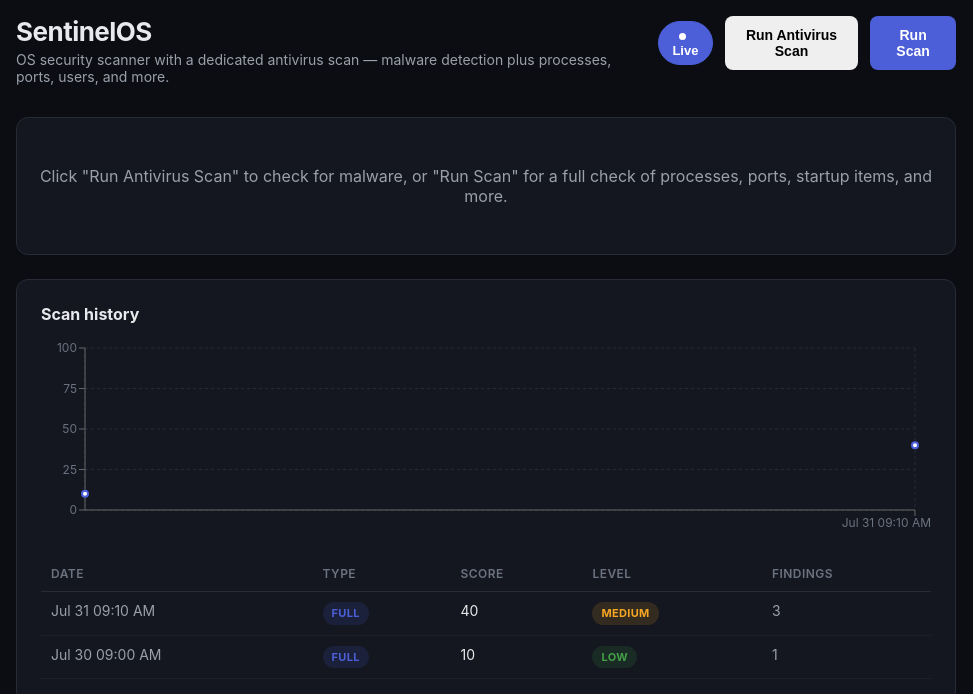
Test: live polling › does not disturb the view when looking at a past scan
Click the row named "View scan from Jul 30": [486, 657] box [41, 635, 931, 678]
Wait 10000 ms
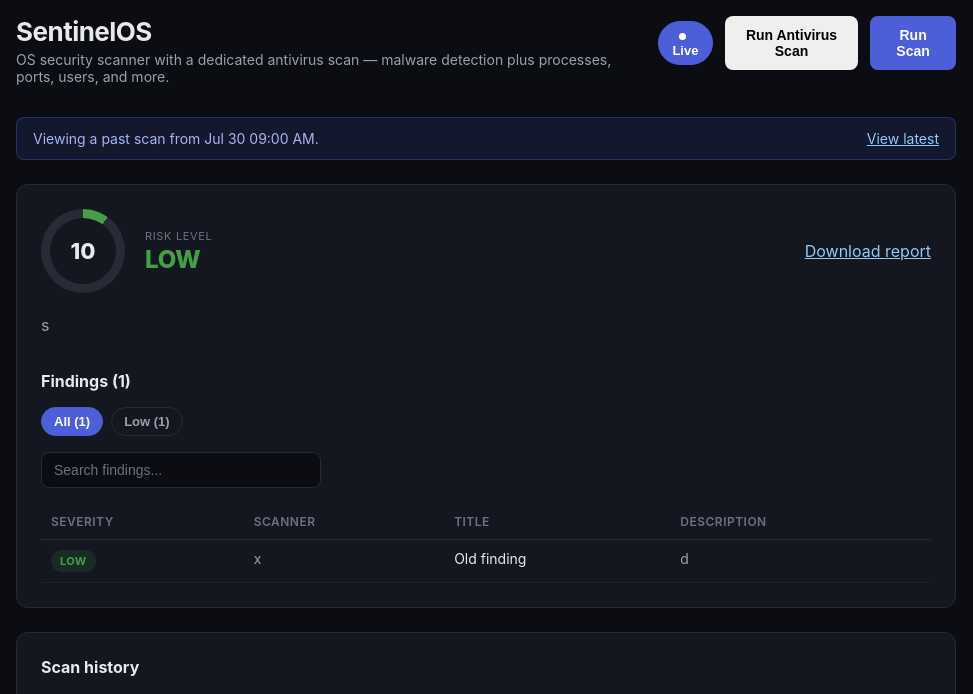
Now the text "Old finding" is shown, box [444, 539, 670, 583]
